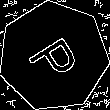P_NE: (22, 28, 85, 85)
